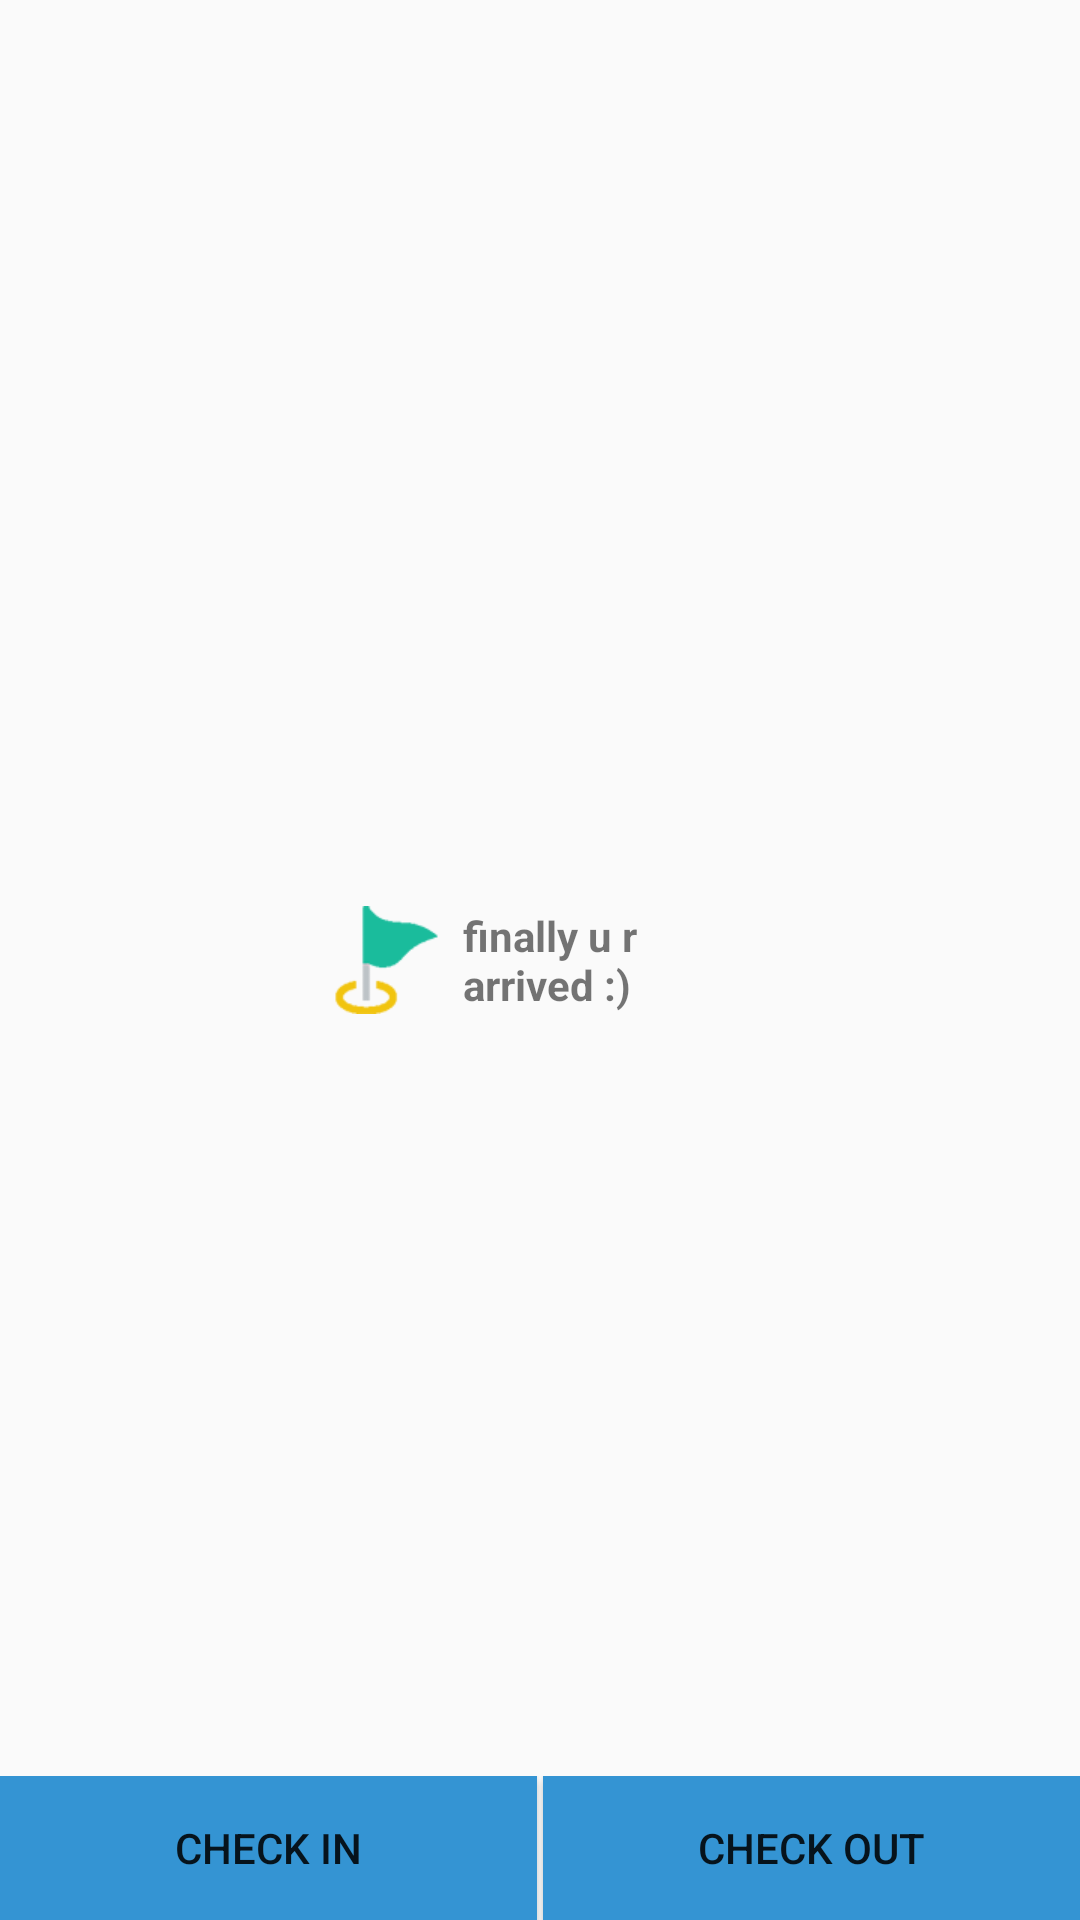

Icon bounding boxes for this 1080x1920 phone screenshot, format (x1, y1, x2, y2):
end: (335, 906, 438, 1014)
